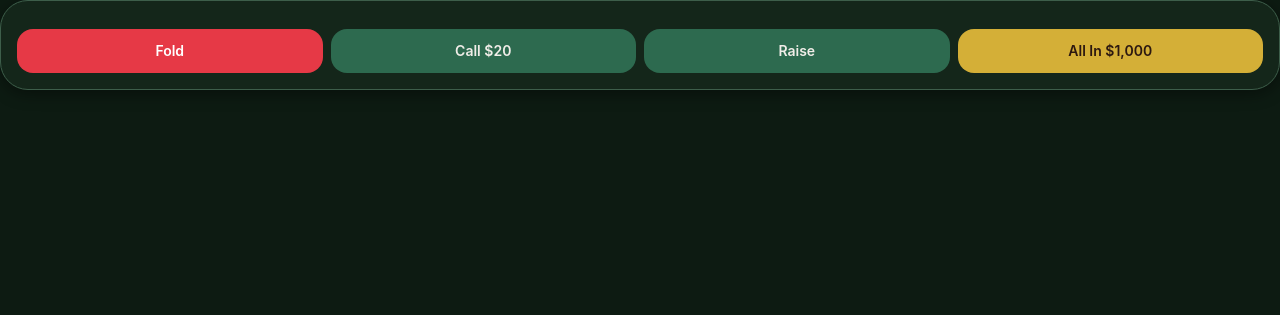
Test: ActionBar › opens the preset row when Raise is clicked
What coordinates should you click on to do the following:
click the button "Raise"
I would click on:
 (797, 51)
Its box is [644,29,950,73].
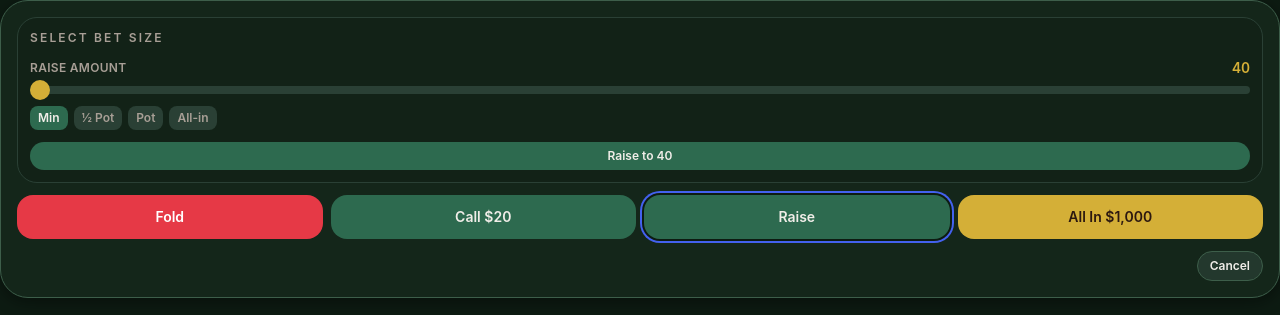
Expected: the button "Min" is shown, [30,106,68,130]
Expected: the button "Cancel" is shown, [1197,251,1263,281]
